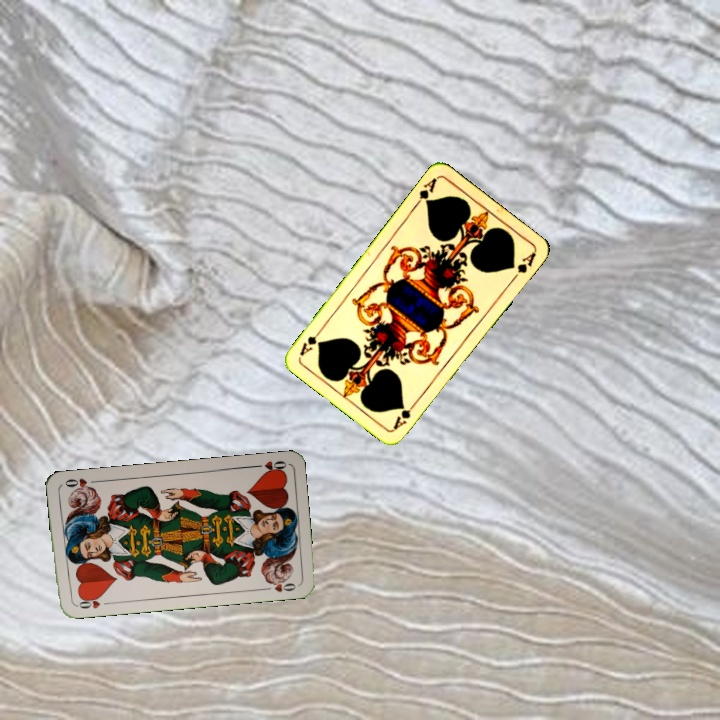GA: (389, 397, 419, 432), (411, 174, 440, 209)
HO: (248, 456, 289, 476), (71, 592, 112, 611)
